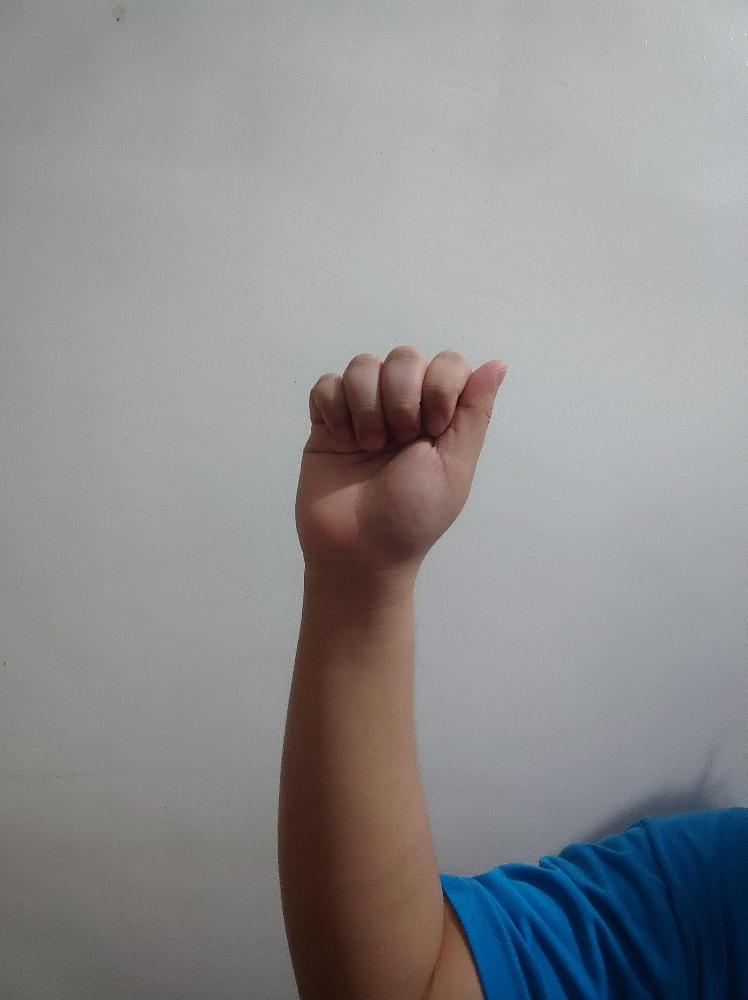a: (293, 344, 508, 564)
